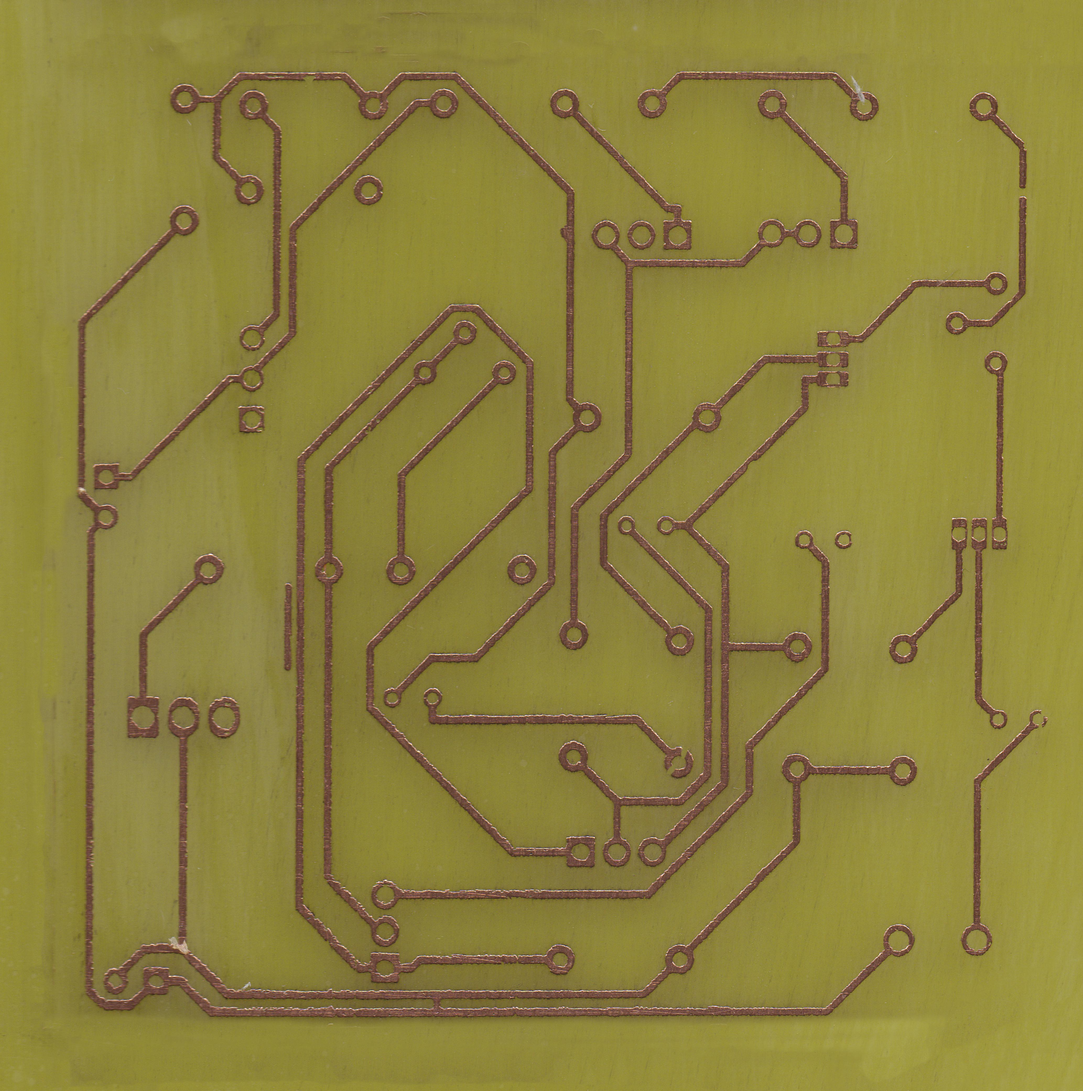missing_hole: (663, 744, 696, 781), (1029, 707, 1052, 735)
mouse_bite: (300, 67, 322, 88)
open_circuit: (1010, 179, 1034, 207)
short: (429, 986, 450, 1024)
spur: (558, 217, 579, 248)
spurious_copper: (280, 578, 296, 672)
